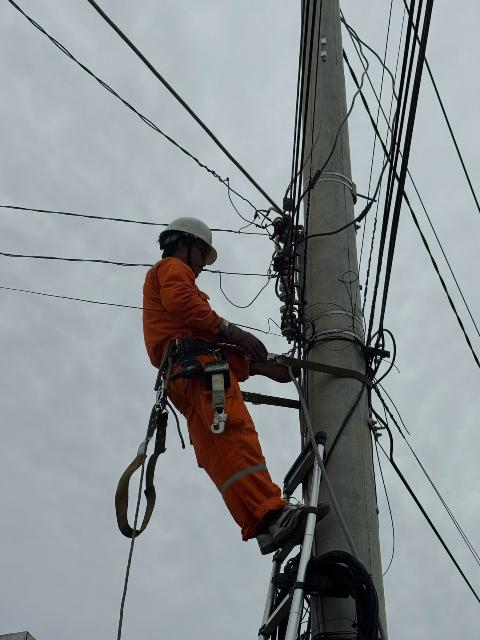gloves: (212, 315, 273, 362)
harness: (152, 327, 233, 370)
helmet: (161, 202, 222, 262)
shoes: (242, 504, 331, 547), (263, 496, 309, 537)
